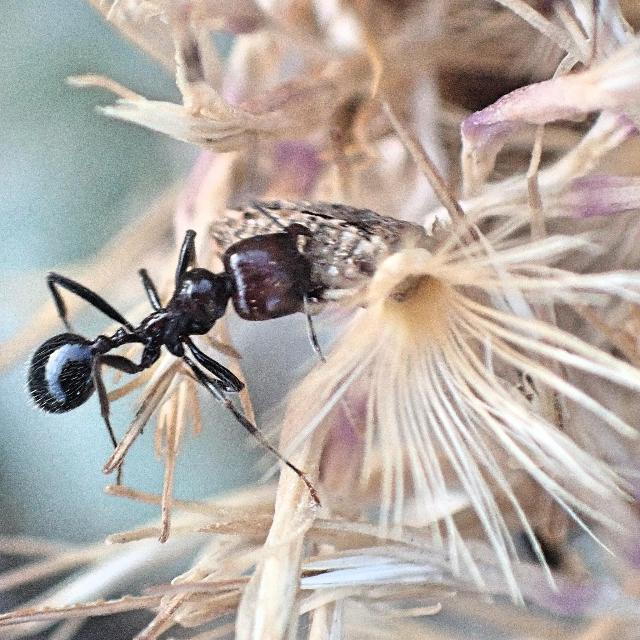Messor: (2, 200, 358, 474)
